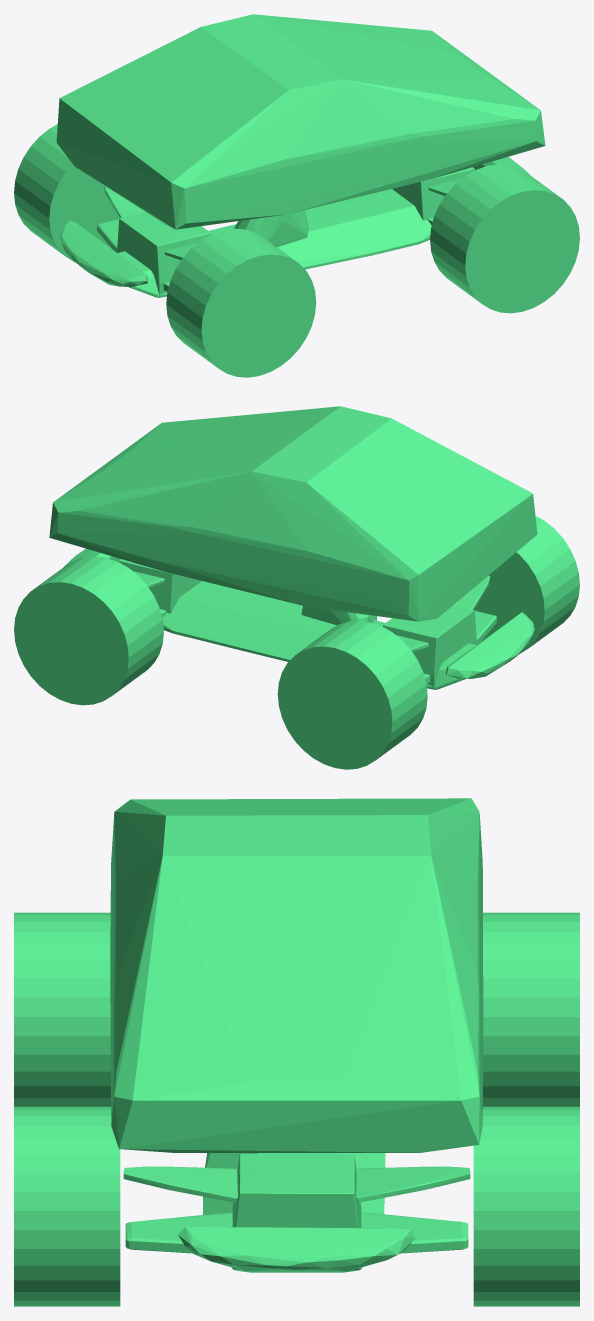
File: monster_truck_colisiones_1.glb
The picture shows the model from 3 angles, top to bottom: view 1: azimuth 30°, elevation 25°; view 2: azimuth 150°, elevation 25°; view 3: azimuth 270°, elevation 25°; orthographic projection. The views are drawn at different scales.
Parts seen in each view (by area): view 1: COL_Carroceria, COL_Rueda_Del_Der, COL_Rueda_Tras_Der, COL_Chasis_Placa, COL_Rueda_Tras_Izq, COL_Mamparo_Tras, COL_Parachoques_Tras, COL_Motor, COL_Mamparo_Del, COL_Brazo_Sup_Tras_Izq, COL_Brazo_Inf_Tras_Izq; view 2: COL_Carroceria, COL_Rueda_Del_Izq, COL_Rueda_Tras_Izq, COL_Chasis_Placa, COL_Rueda_Tras_Der, COL_Mamparo_Tras, COL_Parachoques_Tras, COL_Mamparo_Del, COL_Motor, COL_Brazo_Sup_Tras_Der, COL_Brazo_Inf_Tras_Der; view 3: COL_Carroceria, COL_Rueda_Del_Der, COL_Rueda_Del_Izq, COL_Rueda_Tras_Der, COL_Rueda_Tras_Izq, COL_Mamparo_Del, COL_Parachoques_Del, COL_Brazo_Sup_Del_Der, COL_Brazo_Sup_Del_Izq, COL_Brazo_Inf_Del_Izq, COL_Brazo_Inf_Del_Der, COL_Chasis_Placa.
Part boxes in pixels (left/top/right/bottom): COL_Carroceria: left=56, top=14, right=545, bottom=229; COL_Rueda_Del_Der: left=430, top=164, right=579, bottom=313; COL_Rueda_Tras_Der: left=166, top=228, right=316, bottom=377; COL_Chasis_Placa: left=117, top=189, right=431, bottom=297; COL_Rueda_Tras_Izq: left=14, top=124, right=119, bottom=262; COL_Mamparo_Tras: left=117, top=212, right=210, bottom=294; COL_Parachoques_Tras: left=60, top=220, right=148, bottom=287; COL_Motor: left=234, top=210, right=308, bottom=247; COL_Mamparo_Del: left=392, top=167, right=474, bottom=220; COL_Brazo_Sup_Tras_Izq: left=103, top=185, right=144, bottom=217; COL_Brazo_Inf_Tras_Izq: left=97, top=218, right=119, bottom=252; COL_Carroceria: left=49, top=406, right=537, bottom=621; COL_Rueda_Del_Izq: left=14, top=556, right=163, bottom=705; COL_Rueda_Tras_Izq: left=277, top=620, right=427, bottom=769; COL_Chasis_Placa: left=162, top=581, right=476, bottom=689; COL_Rueda_Tras_Der: left=474, top=515, right=579, bottom=654; COL_Mamparo_Tras: left=383, top=605, right=476, bottom=686; COL_Parachoques_Tras: left=445, top=612, right=534, bottom=678; COL_Mamparo_Del: left=119, top=559, right=201, bottom=613; COL_Motor: left=301, top=606, right=376, bottom=625; COL_Brazo_Sup_Tras_Der: left=453, top=575, right=490, bottom=609; COL_Brazo_Inf_Tras_Der: left=475, top=610, right=496, bottom=644; COL_Carroceria: left=110, top=798, right=483, bottom=1152; COL_Rueda_Del_Der: left=14, top=1107, right=120, bottom=1306; COL_Rueda_Del_Izq: left=473, top=1107, right=579, bottom=1306; COL_Rueda_Tras_Der: left=14, top=912, right=111, bottom=1106; COL_Rueda_Tras_Izq: left=483, top=912, right=579, bottom=1106; COL_Mamparo_Del: left=232, top=1154, right=361, bottom=1227; COL_Parachoques_Del: left=178, top=1227, right=415, bottom=1271; COL_Brazo_Sup_Del_Der: left=123, top=1166, right=237, bottom=1202; COL_Brazo_Sup_Del_Izq: left=356, top=1166, right=470, bottom=1202; COL_Brazo_Inf_Del_Izq: left=361, top=1212, right=468, bottom=1253; COL_Brazo_Inf_Del_Der: left=125, top=1212, right=232, bottom=1253; COL_Chasis_Placa: left=203, top=1153, right=385, bottom=1272.
Size of the model in its own units: 0.653 by 0.3329 by 0.4927.
